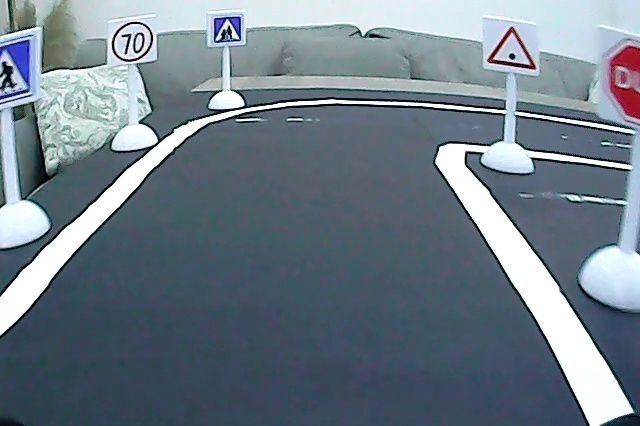green light: (485, 23, 540, 74)
pedestrian crossing: (1, 38, 36, 104)
school crossing: (212, 12, 243, 47)
speed limit 70: (110, 18, 155, 65)
